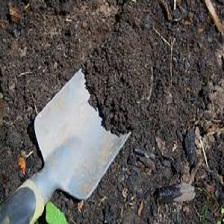loamy_soil: (19, 18, 211, 174)
